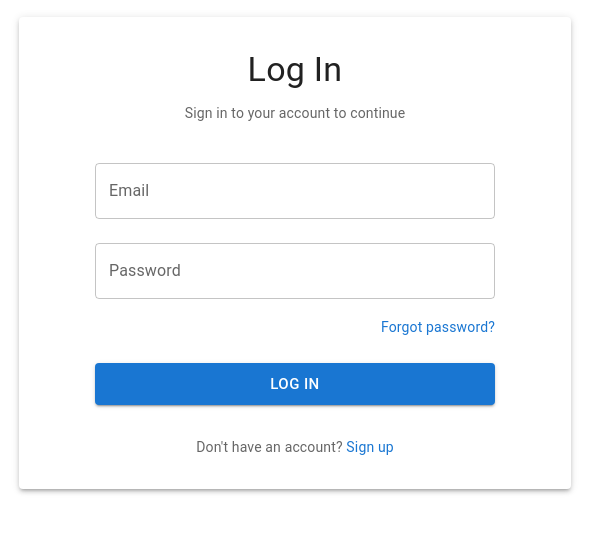
Test case: LoginPage - Integration Tests › Form Validation › should validate email format
The image size is (591, 557).
Step 1. Type "invalid-email" into the field labelled "Email" → (295, 191), box [95,163,495,219]
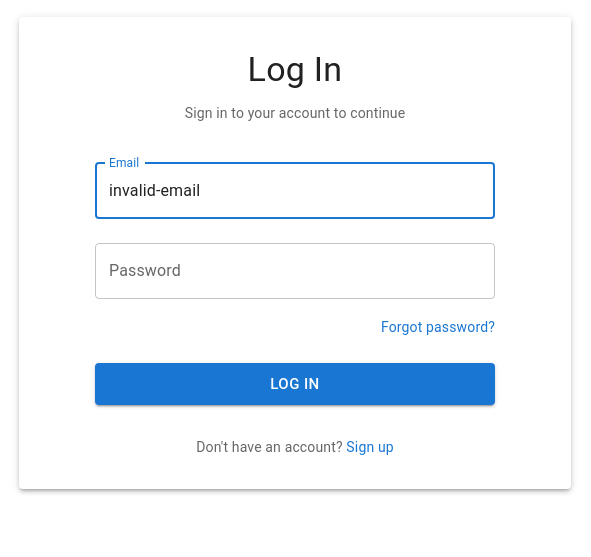
Step 2. Click the button "Log In" → (295, 384), box [95,363,495,405]
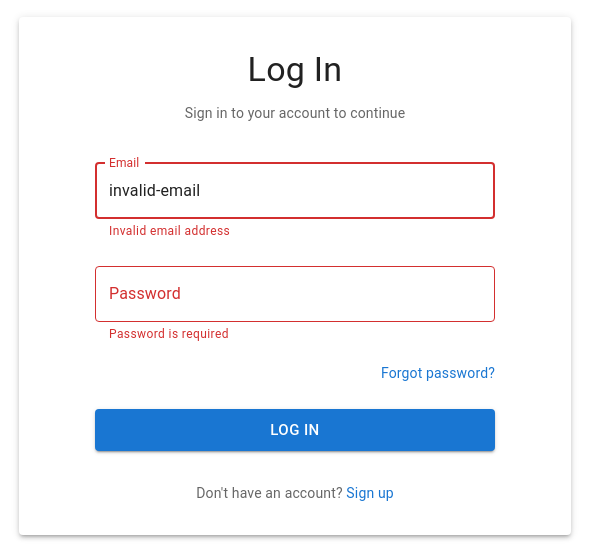
expect the text "Invalid email address" is shown: met, box [109,224,230,238]
